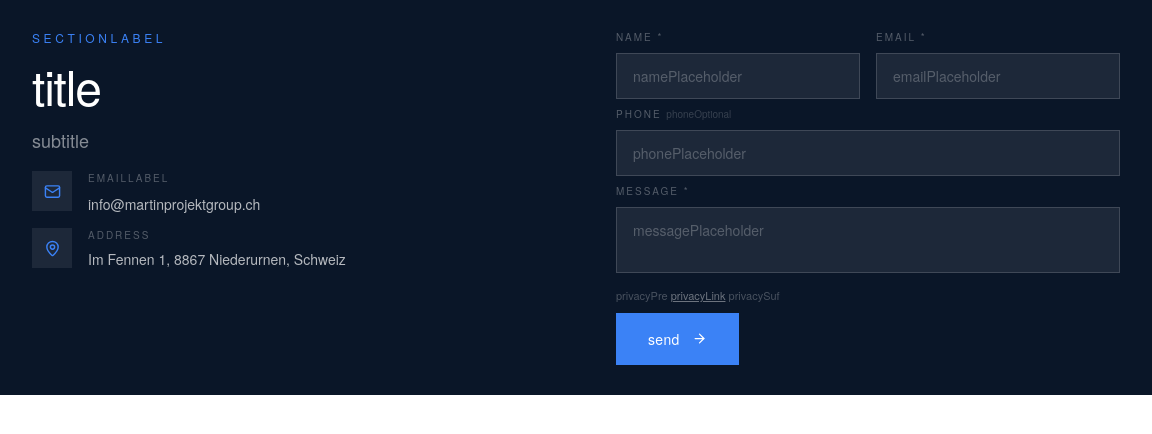
Test: ContactSection › shows name error on blur with short name
The width and height of the screenshot is (1152, 434).
Type "A" into the field with placeholder "namePlaceholder" at {"x": 738, "y": 76}, box [616,53,860,99]
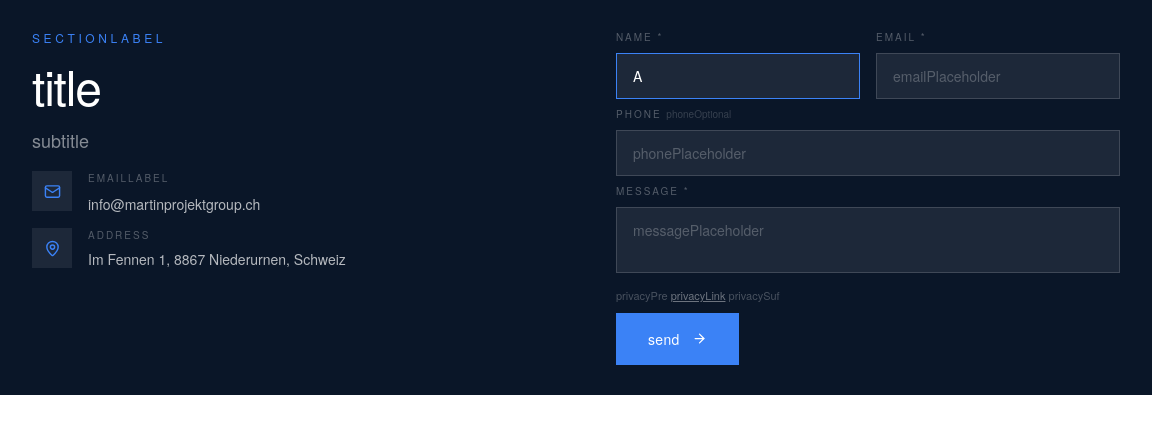
Leave the field with placeholder "namePlaceholder", box [616,53,860,99]
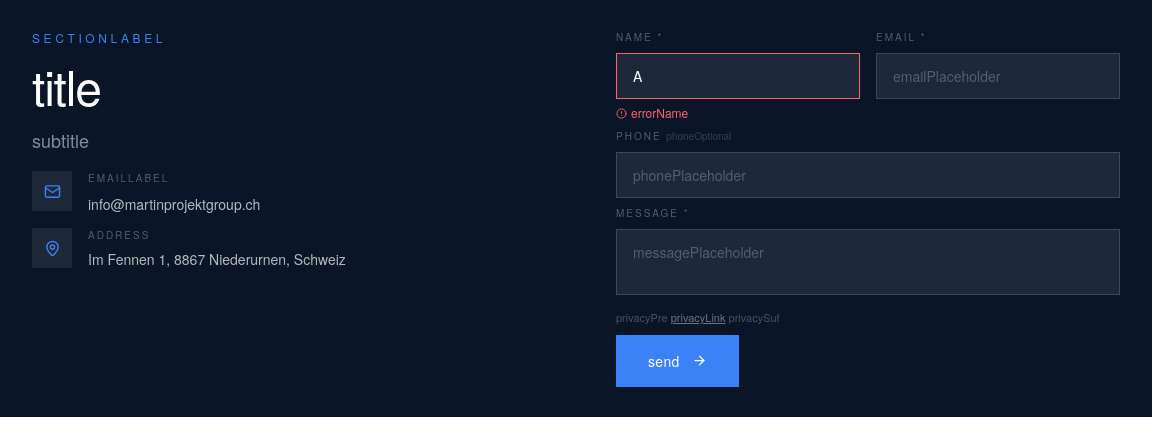
Expected: the text "errorName" is shown, [616,104,688,121]
